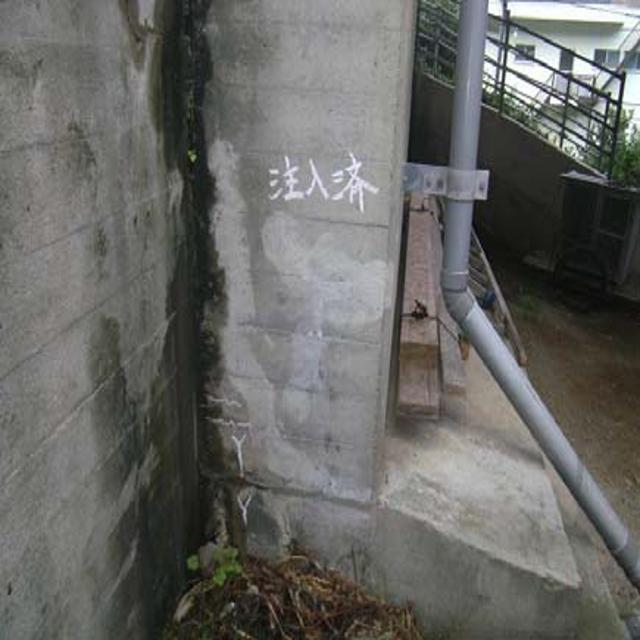leakage: (108, 7, 245, 594)
